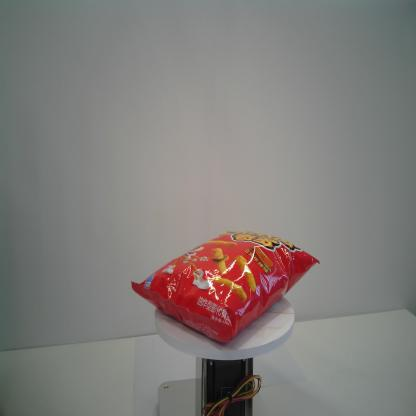Puffed Food: (130, 230, 321, 344)
